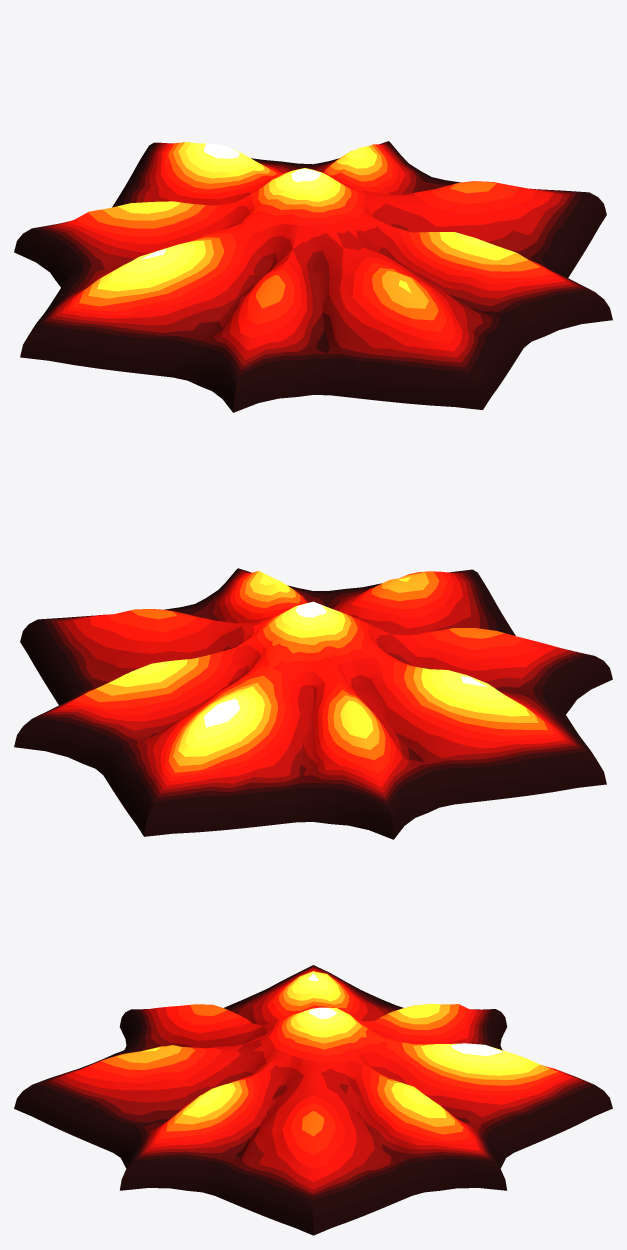
The model's file is lava_star_282.glb.
3 views of the same model, one above another, from view 1: azimuth 30°, elevation 25°; view 2: azimuth 150°, elevation 25°; view 3: azimuth 270°, elevation 25° (orthographic). The views are drawn at different scales.
Parts seen in each view (by area): view 1: lava_star; view 2: lava_star; view 3: lava_star.
Boxes of the visible parts, left/top/right/bottom form: lava_star: left=14, top=141, right=612, bottom=412; lava_star: left=14, top=568, right=612, bottom=839; lava_star: left=14, top=965, right=612, bottom=1235.
Bounding box in the file's own units: 17 × 7.6 × 17.
